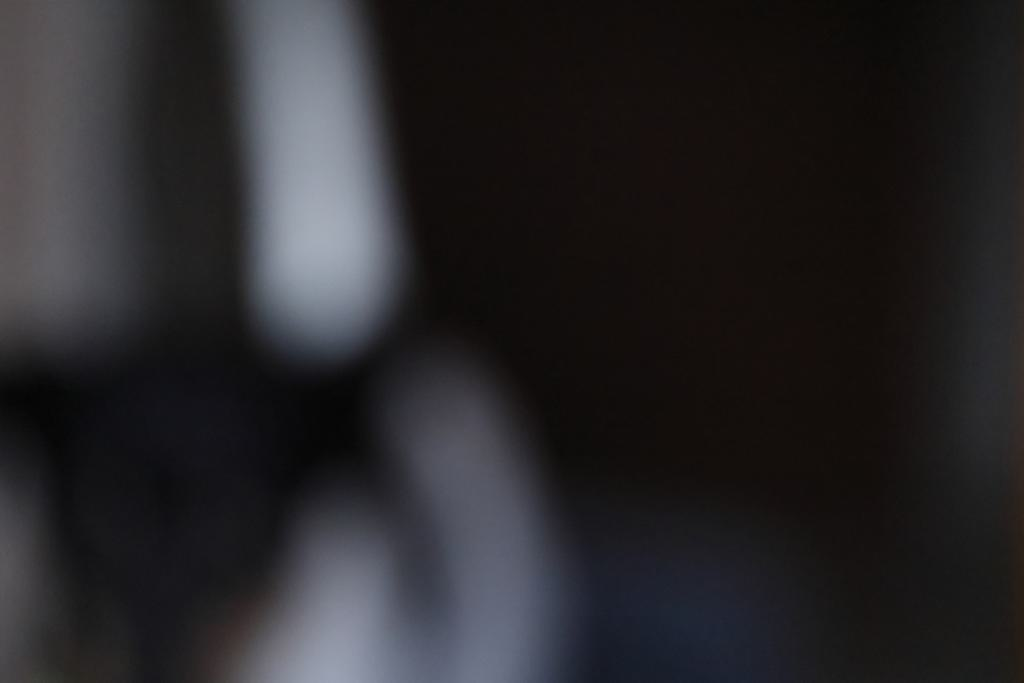Dog: (0, 0, 586, 683)
